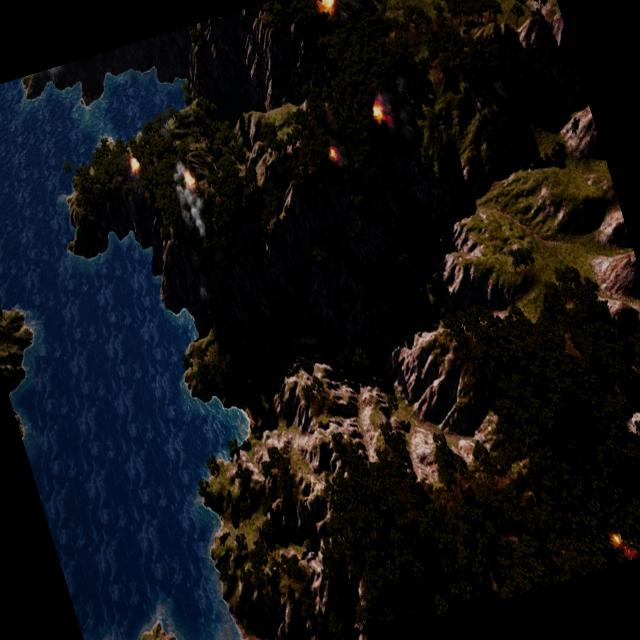fire: (607, 527, 637, 564), (368, 101, 386, 126), (182, 168, 198, 188), (127, 156, 141, 173), (328, 146, 341, 164), (317, 0, 337, 10)
smoke: (164, 160, 214, 248), (372, 72, 425, 148), (326, 134, 356, 187), (325, 0, 392, 22), (34, 63, 71, 83)
